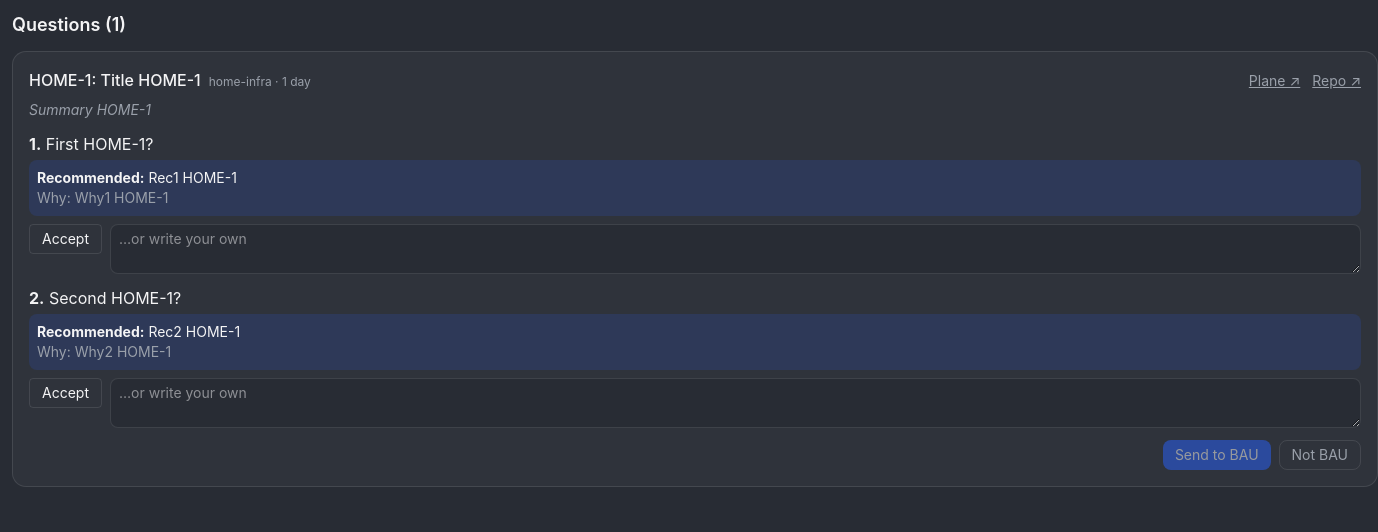
Questions › shows the error when not BAU fails
This screenshot has width=1378, height=532.
Click the button "Not BAU" at (1320, 455), box [1279,440,1361,470]
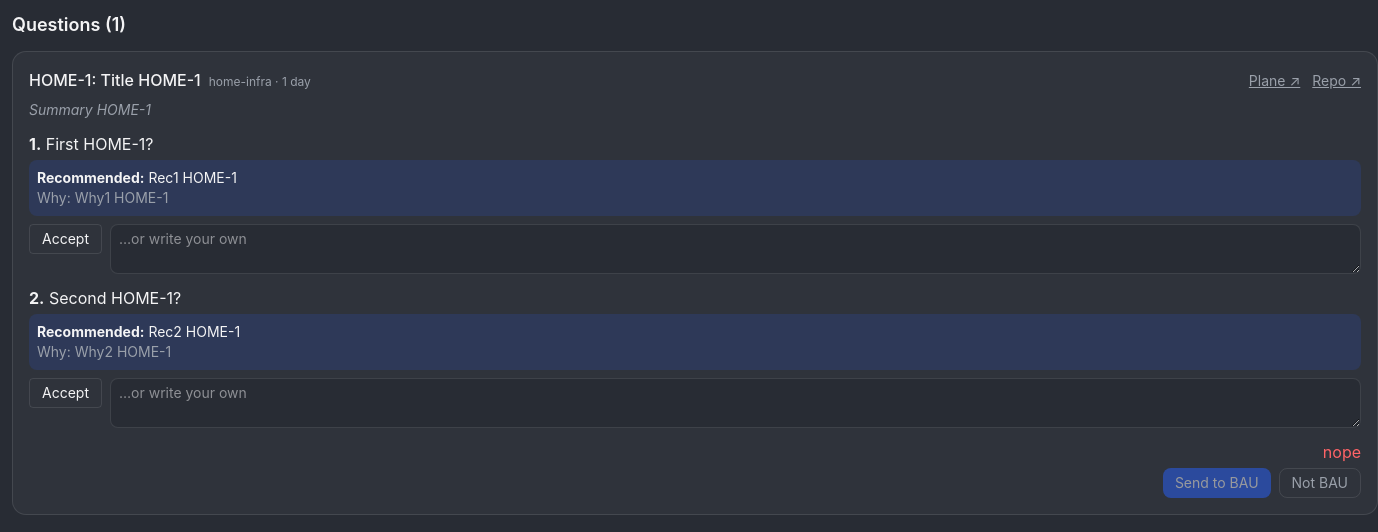
Now the text "nope" is shown, box [1323,440,1361,464]
